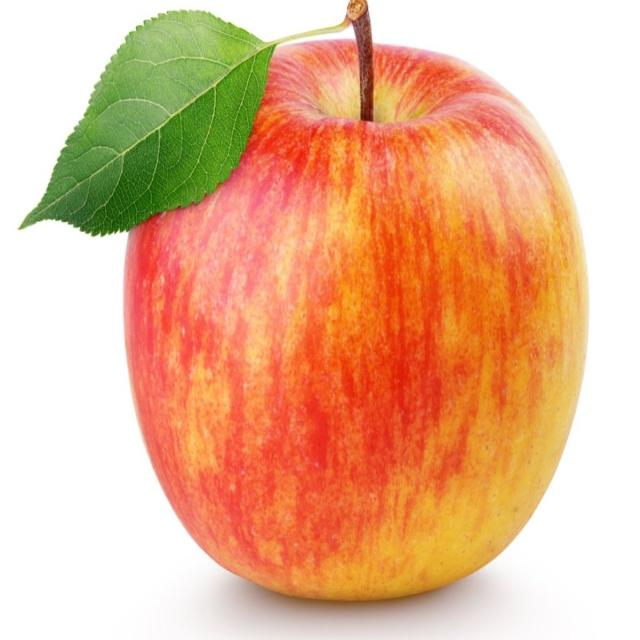apple: (23, 2, 590, 603)
